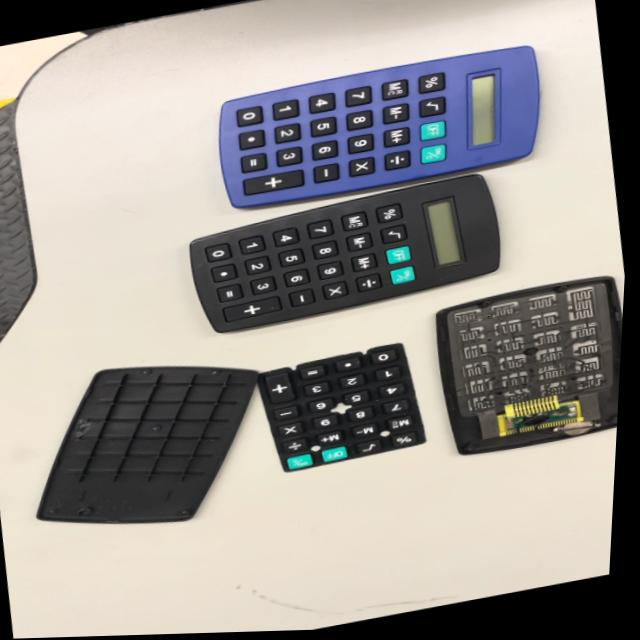back_cover: (17, 347, 264, 554)
calculator: (208, 35, 558, 216), (180, 168, 520, 335)
front_panel: (420, 272, 625, 463)
number_pad: (245, 333, 442, 482)
